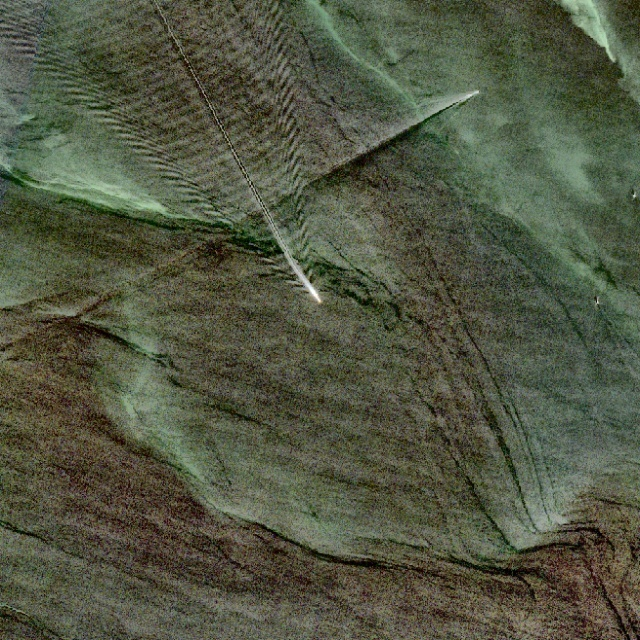wake: (120, 46, 398, 357)
